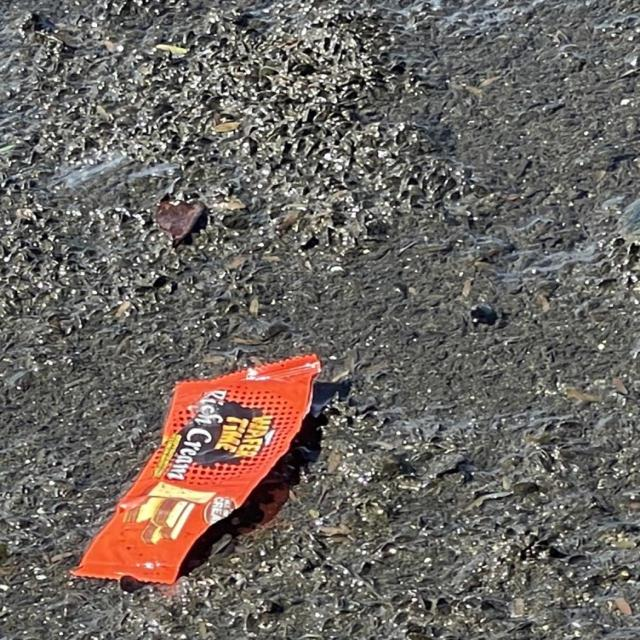plastic_waste: (68, 353, 325, 587)
